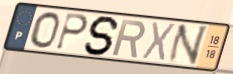N: (165, 24, 211, 67)
O: (29, 10, 62, 50)
P: (54, 12, 90, 52)
R: (110, 18, 147, 60)
S: (83, 15, 122, 57)
X: (140, 20, 178, 64)
